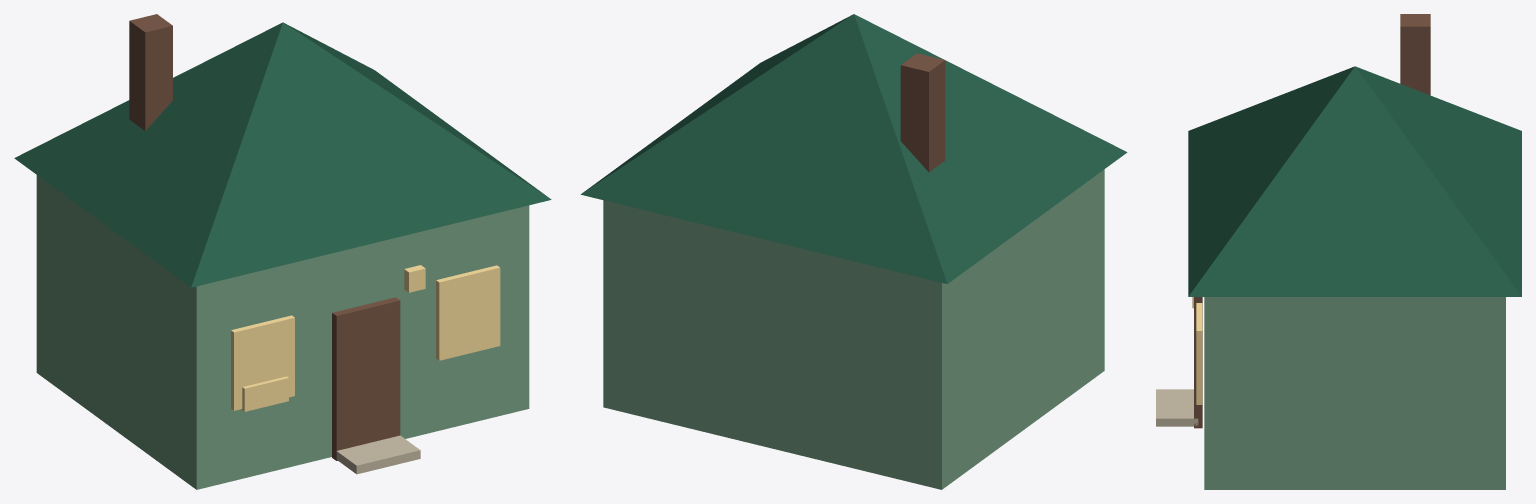
The model's file is house-1.glb.
The picture shows the model from 3 angles, left to right: view 1: azimuth 30°, elevation 25°; view 2: azimuth 150°, elevation 25°; view 3: azimuth 270°, elevation 25°; orthographic projection. The views are drawn at different scales.
Parts seen in each view (by area): view 1: HouseMesh, WindowsMesh, MealLightMesh; view 2: HouseMesh; view 3: HouseMesh, WindowsMesh.
Boxes of the visible parts, x1=… form: HouseMesh: x1=14, y1=14, x2=551, y2=489; WindowsMesh: x1=231, y1=265, x2=500, y2=410; MealLightMesh: x1=241, y1=376, x2=288, y2=411; HouseMesh: x1=581, y1=14, x2=1127, y2=489; HouseMesh: x1=1156, y1=14, x2=1521, y2=489; WindowsMesh: x1=1196, y1=303, x2=1202, y2=404.
Bounding box in the file's own units: 6.51 × 6.35 × 6.06.
1 material, 1 textured.
